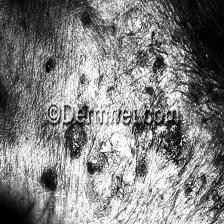Benign Marking or Mole: (62, 128, 196, 205), (129, 0, 224, 96), (78, 4, 94, 37), (42, 54, 56, 75)
